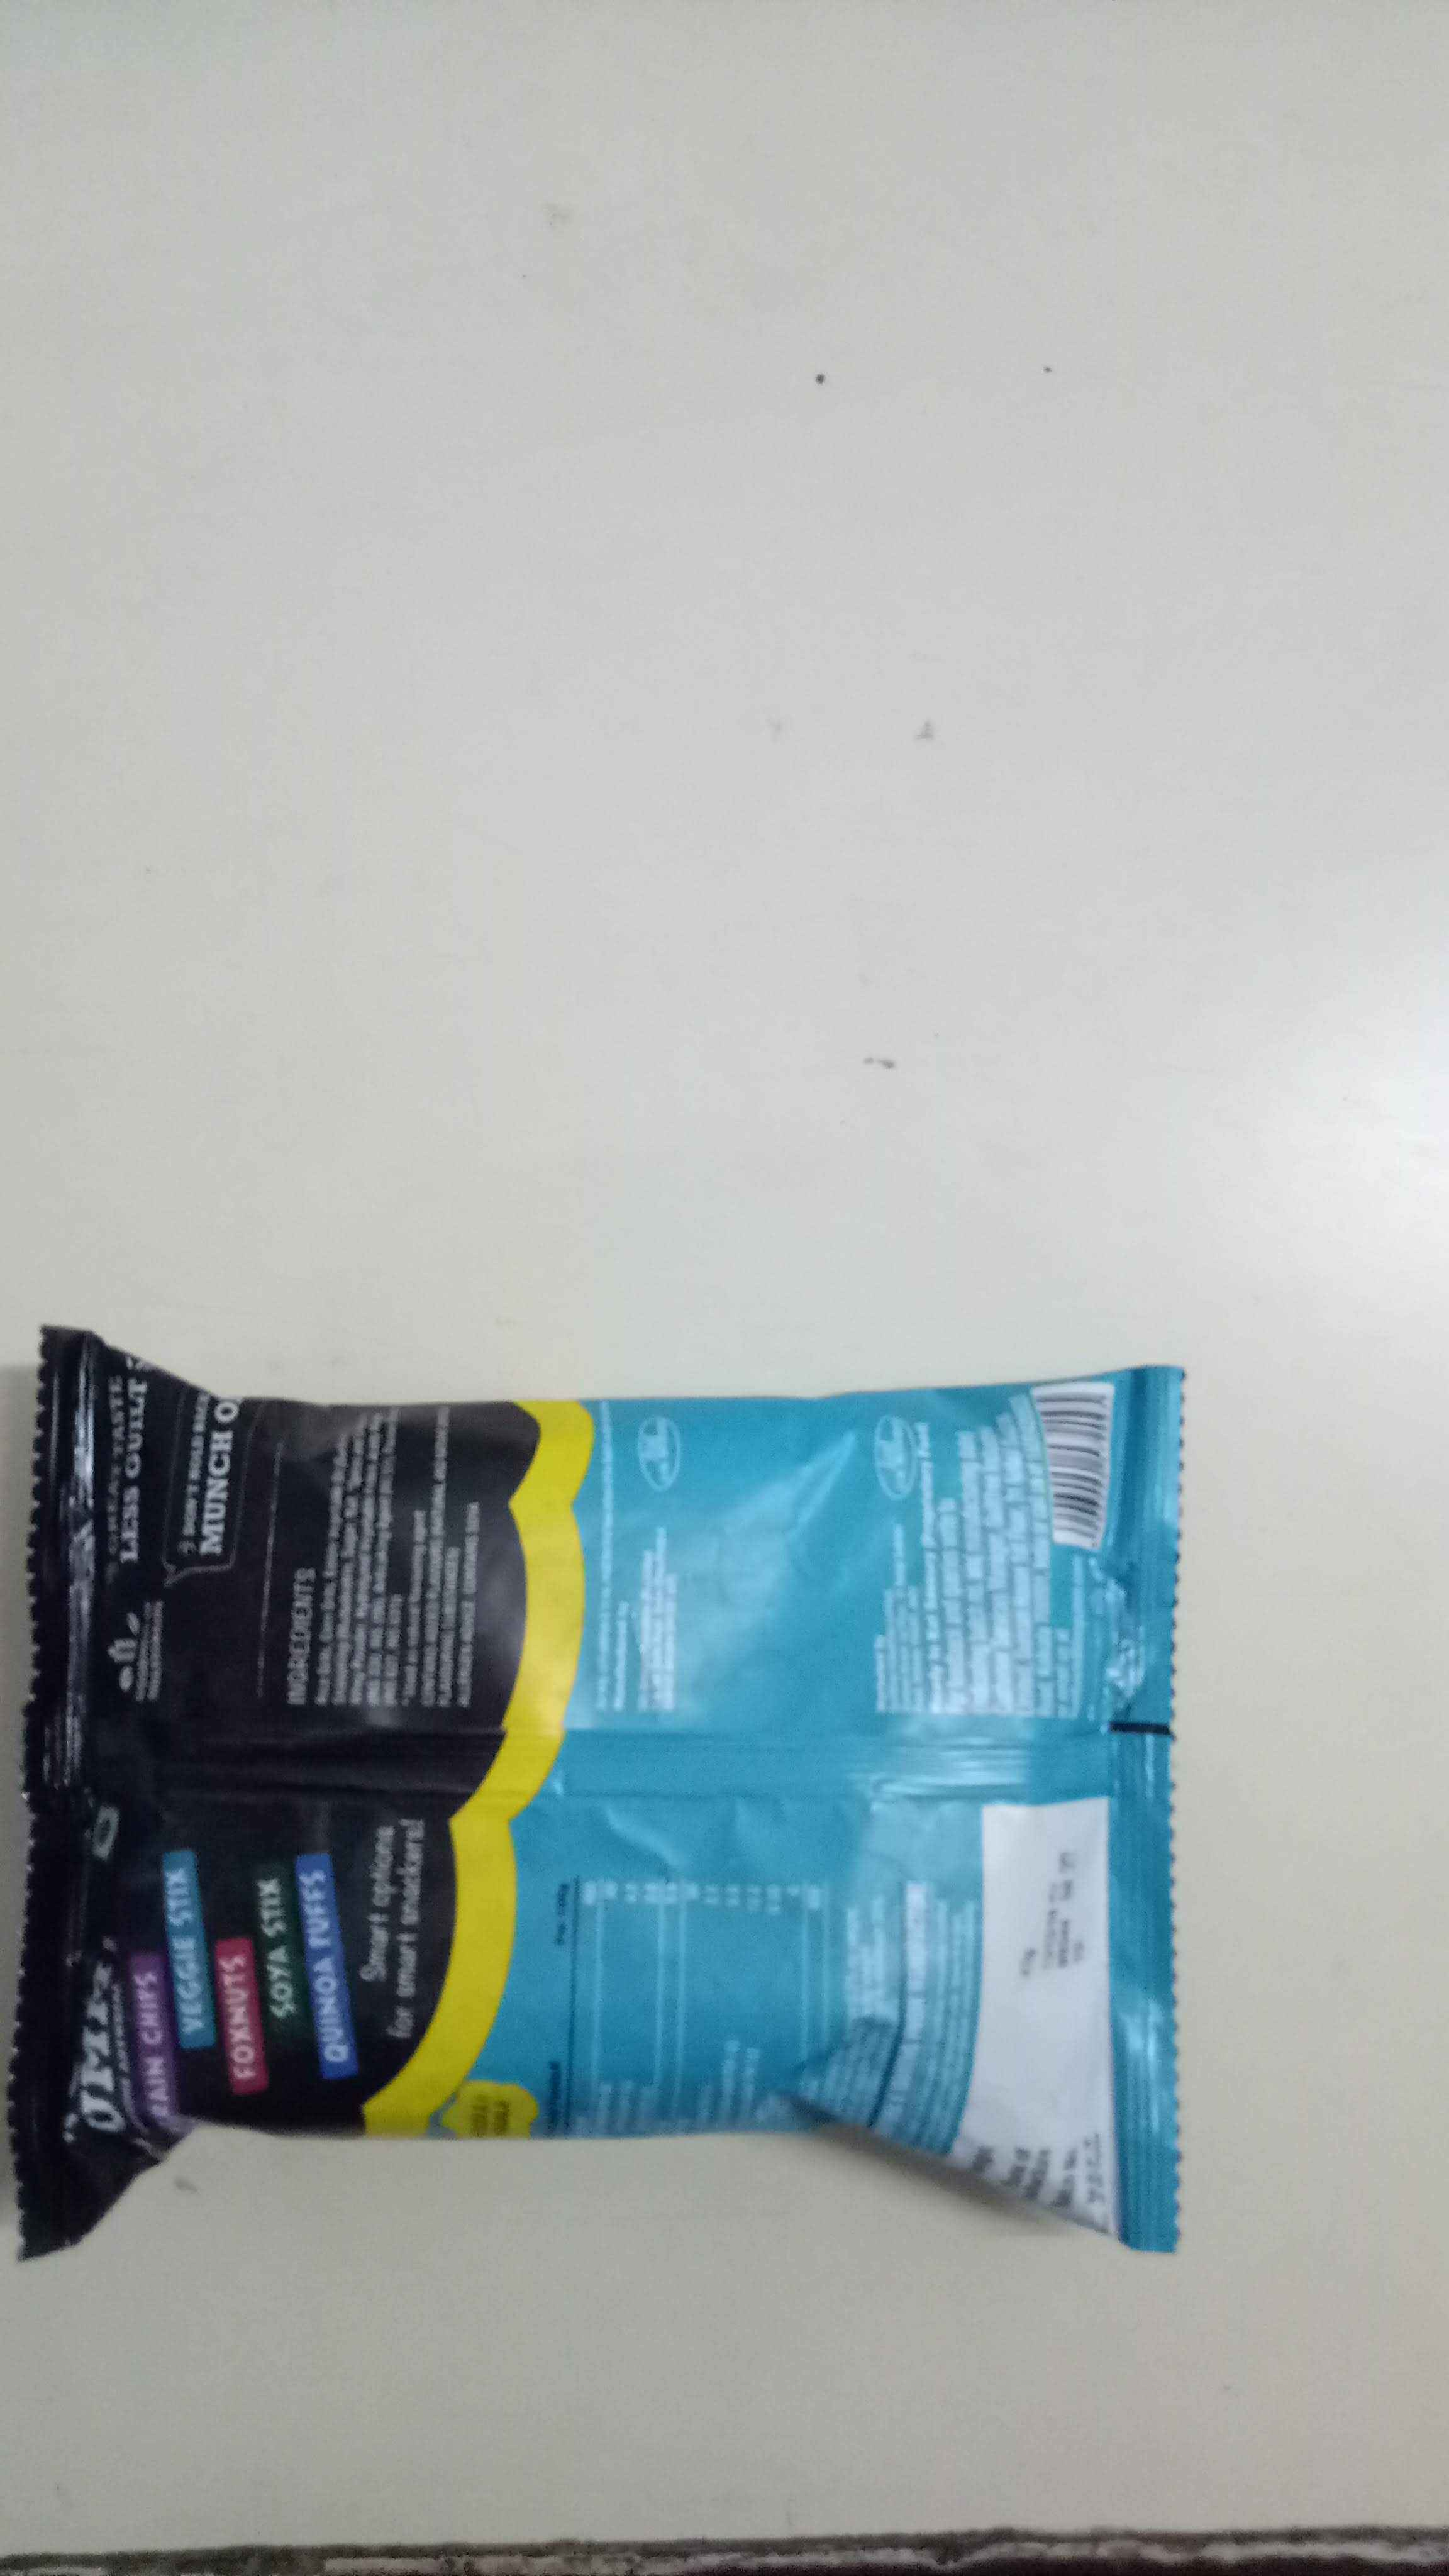tooyumm: (48, 1939, 170, 2135)
